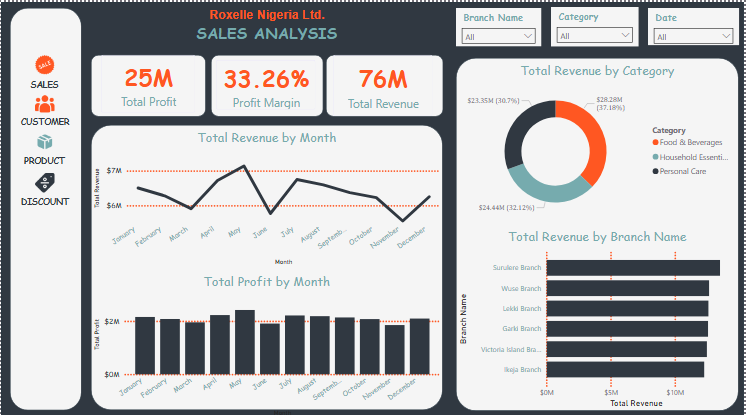

This screenshot's page, from the dashboard's own definition file:
{"tool":"powerbi","page":{"name":"SALES PERFORMANCE","canvas":[1280,720],"ordinal":0},"visuals":[{"type":"shape","box":[0,0,1280.9,719.1],"z":0},{"type":"shape","box":[14.9,10.6,123.4,693.6],"z":1000},{"type":"shape","box":[155.3,91.5,197.9,106.4],"z":2000},{"type":"shape","box":[361.7,91.5,193.6,106.4],"z":3000},{"type":"shape","box":[559.6,91.5,202.1,106.4],"z":4000},{"type":"shape","box":[155.3,212.8,606.4,491.5],"z":5000},{"type":"shape","box":[785.1,95.7,487.2,608.5],"z":6000},{"type":"cardVisual","fields":{"Data":["Measures (2).Total Profit"]},"box":[155.3,74.5,197.9,134],"z":7000},{"type":"cardVisual","fields":{"Data":["Measures (2).Total Revenue"]},"box":[555.3,74.5,206.4,140.4],"z":8000},{"type":"cardVisual","fields":{"Data":["Measures (2).Profit Margin"]},"box":[353.4,82.8,206.9,120.7],"z":9000},{"type":"slicer","fields":{"Values":["date.Date"]},"box":[1114.9,10.6,157.4,63.8],"z":10000},{"type":"slicer","fields":{"Values":["products.Category"]},"box":[948.9,8.5,151.1,68.1],"z":11000},{"type":"slicer","fields":{"Values":["branches.BranchName"]},"box":[785.1,10.6,146.8,66],"z":12000},{"type":"textbox","box":[155.2,0,606.9,108.6],"z":13000},{"type":"clusteredBarChart","fields":{"Y":["Measures (2).Total Revenue"],"Category":["branches.BranchName"]},"box":[785.1,383,487.2,321.3],"z":14000},{"type":"clusteredColumnChart","fields":{"Category":["date.Date.Variation.Date Hierarchy.Month"],"Y":["Measures (2).Total Profit"]},"box":[155.3,459.6,606.4,259.6],"z":15000},{"type":"donutChart","fields":{"Category":["products.Category"],"Y":["Measures (2).Total Revenue"]},"box":[785.1,95.7,487.2,287.2],"z":16000},{"type":"lineChart","fields":{"Category":["date.Date.Variation.Date Hierarchy.Month"],"Y":["Measures (2).Total Revenue"]},"box":[155.3,212.8,606.4,246.8],"z":17000},{"type":"image","box":[58.6,91.4,34.5,34.5],"z":18000},{"type":"image","box":[58.6,224.1,34.5,34.5],"z":19000},{"type":"image","box":[58.6,294.8,34.5,34.5],"z":20000},{"type":"image","box":[58.6,158.6,34.5,34.5],"z":21000},{"type":"textbox","box":[36.2,127.6,77.6,31],"z":22000},{"type":"textbox","box":[22.4,191.4,106.9,32.8],"z":23000},{"type":"textbox","box":[31,258.6,87.9,36.2],"z":24000},{"type":"textbox","box":[24.1,329.3,103.4,41.4],"z":25000}]}

Visuals, with their boxes in screenshot pixels (x1, y1, x2, y2), scaled from the page's 1280x720 canvas onto the 746x415 screenshot:
shape: <box>0,0,745,414</box>
shape: <box>9,6,81,406</box>
shape: <box>91,53,206,114</box>
shape: <box>211,53,324,114</box>
shape: <box>326,53,444,114</box>
shape: <box>91,123,444,406</box>
shape: <box>458,55,742,406</box>
cardVisual - Measures (2).Total Profit: <box>91,43,206,120</box>
cardVisual - Measures (2).Total Revenue: <box>324,43,444,124</box>
cardVisual - Measures (2).Profit Margin: <box>206,48,327,117</box>
slicer - date.Date: <box>650,6,742,43</box>
slicer - products.Category: <box>553,5,641,44</box>
slicer - branches.BranchName: <box>458,6,543,44</box>
textbox: <box>90,0,444,63</box>
clusteredBarChart - Measures (2).Total Revenue x branches.BranchName: <box>458,221,742,406</box>
clusteredColumnChart - date.Date.Variation.Date Hierarchy.Month x Measures (2).Total Profit: <box>91,265,444,414</box>
donutChart - products.Category x Measures (2).Total Revenue: <box>458,55,742,221</box>
lineChart - date.Date.Variation.Date Hierarchy.Month x Measures (2).Total Revenue: <box>91,123,444,265</box>
image: <box>34,53,54,73</box>
image: <box>34,129,54,149</box>
image: <box>34,170,54,190</box>
image: <box>34,91,54,111</box>
textbox: <box>21,74,66,91</box>
textbox: <box>13,110,75,129</box>
textbox: <box>18,149,69,170</box>
textbox: <box>14,190,74,214</box>
